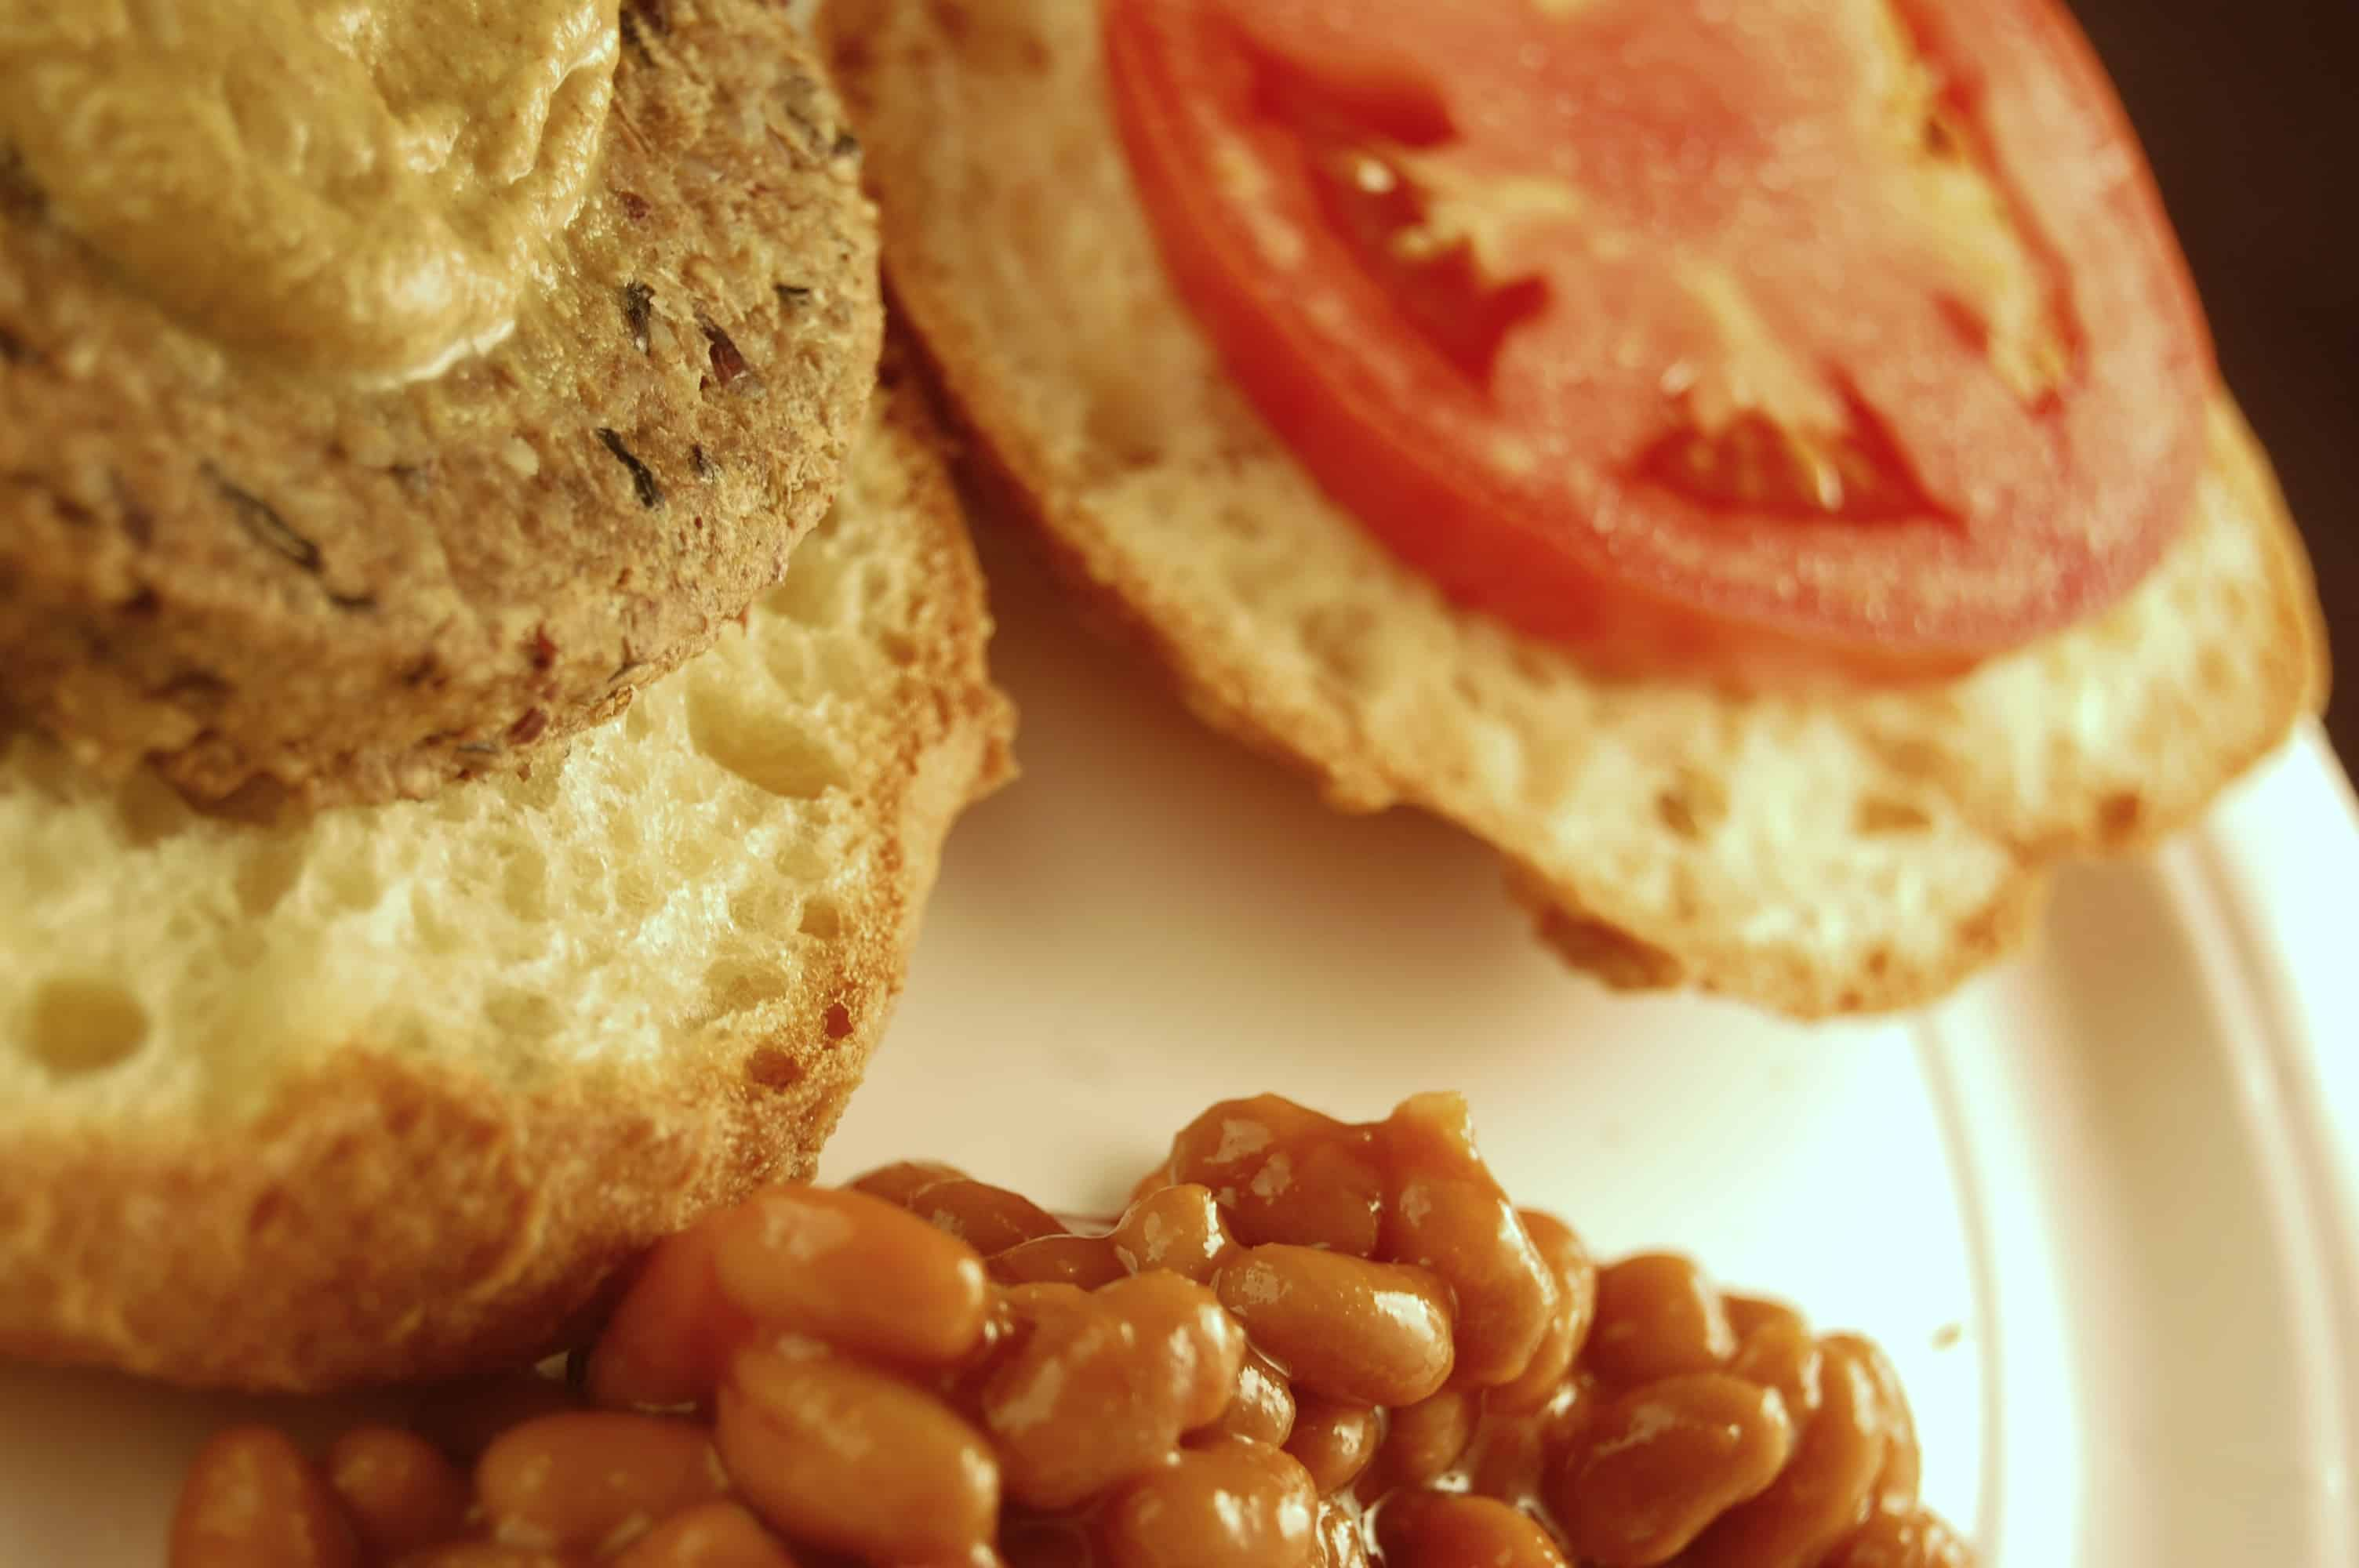hamburger_buns: (922, 0, 2343, 1083), (0, 63, 1024, 1386)
